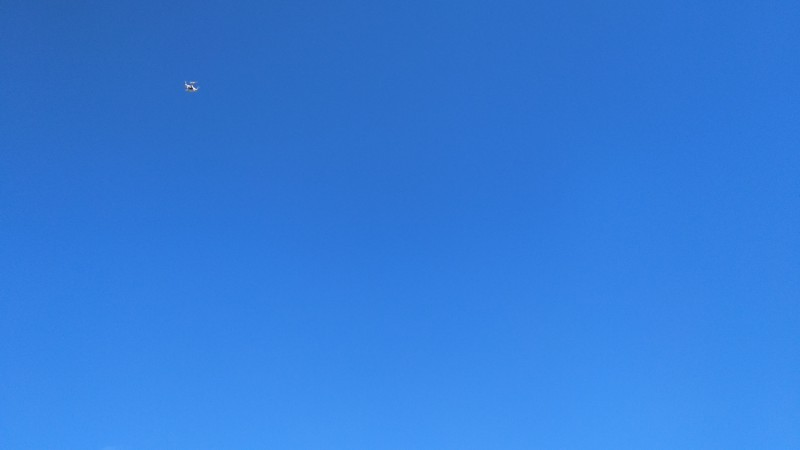drone: (182, 78, 202, 96)
